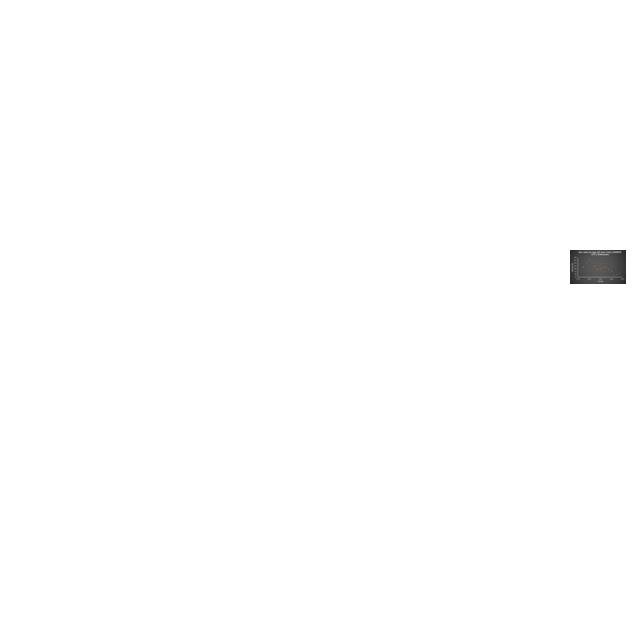Graph: (570, 250, 626, 284)
